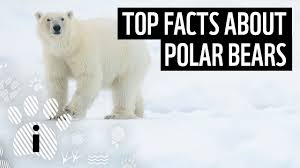PolarBear: (26, 3, 153, 122)
